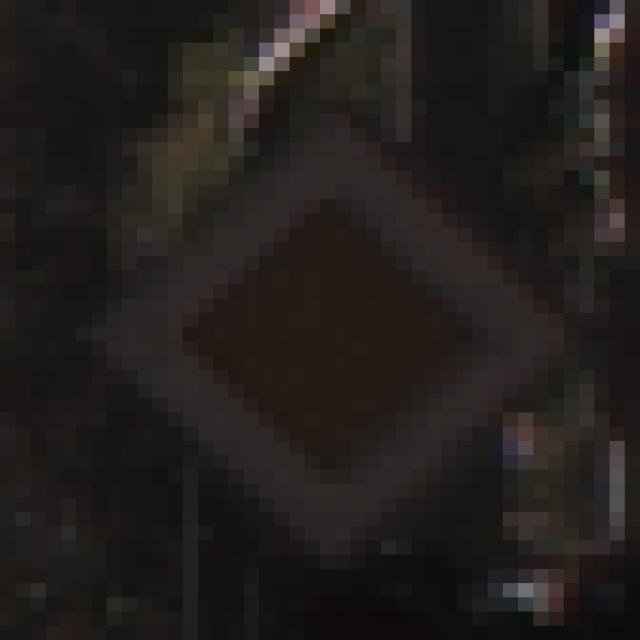Main Road: (77, 86, 565, 570)
